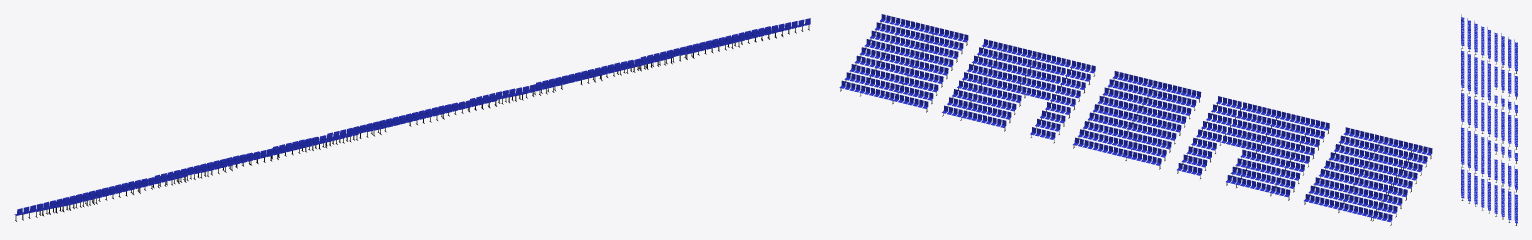
File: Stand_B_Chairs.FBX
The picture shows the model from 3 angles, left to right: view 1: azimuth 30°, elevation 25°; view 2: azimuth 150°, elevation 25°; view 3: azimuth 270°, elevation 25°; orthographic projection. The views are drawn at different scales.
Parts seen in each view (by area): view 1: Stand_B_Chair_03, Stand_B_Chair_02; view 2: Stand_B_Chair_03, Stand_B_Chair_52, Stand_B_Chair_32, Stand_B_Chair_06, Stand_B_Chair_02, Stand_B_Chair_05, Stand_B_Chair_09, Stand_B_Chair_49, Stand_B_Chair_08, Stand_B_Chair_46, Stand_B_Chair_31, Stand_B_Chair_24 (+39 smaller); view 3: Stand_B_Chair_51, Stand_B_Chair_45, Stand_B_Chair_48, Stand_B_Chair_08, Stand_B_Chair_43, Stand_B_Chair_09, Stand_B_Chair_35, Stand_B_Chair_24, Stand_B_Chair_11, Stand_B_Chair_03, Stand_B_Chair_12, Stand_B_Chair_34 (+41 smaller).
Boxes of the visible parts, x1,y1,x2,y2 form: Stand_B_Chair_03: (678, 35, 738, 61); Stand_B_Chair_02: (725, 24, 784, 50); Stand_B_Chair_03: (923, 27, 968, 62); Stand_B_Chair_52: (1337, 185, 1382, 220); Stand_B_Chair_32: (1126, 134, 1171, 169); Stand_B_Chair_06: (908, 52, 953, 87); Stand_B_Chair_02: (889, 19, 934, 52); Stand_B_Chair_05: (874, 43, 919, 77); Stand_B_Chair_09: (893, 77, 938, 112); Stand_B_Chair_49: (1353, 160, 1397, 194); Stand_B_Chair_08: (859, 69, 904, 104); Stand_B_Chair_46: (1367, 135, 1412, 169); Stand_B_Chair_31: (1092, 125, 1137, 160); Stand_B_Chair_24: (1141, 80, 1186, 112); Stand_B_Chair_51: (1501, 50, 1517, 73); Stand_B_Chair_45: (1461, 32, 1477, 54); Stand_B_Chair_48: (1481, 44, 1497, 64); Stand_B_Chair_08: (1501, 196, 1517, 218); Stand_B_Chair_43: (1501, 73, 1517, 95); Stand_B_Chair_09: (1501, 185, 1517, 205); Stand_B_Chair_35: (1461, 54, 1477, 74); Stand_B_Chair_24: (1461, 95, 1477, 115); Stand_B_Chair_11: (1461, 144, 1477, 164); Stand_B_Chair_03: (1461, 166, 1477, 186); Stand_B_Chair_12: (1461, 133, 1477, 153); Stand_B_Chair_34: (1461, 65, 1477, 85).
Size of the model in its own units: 62067 by 5052 by 8257.
